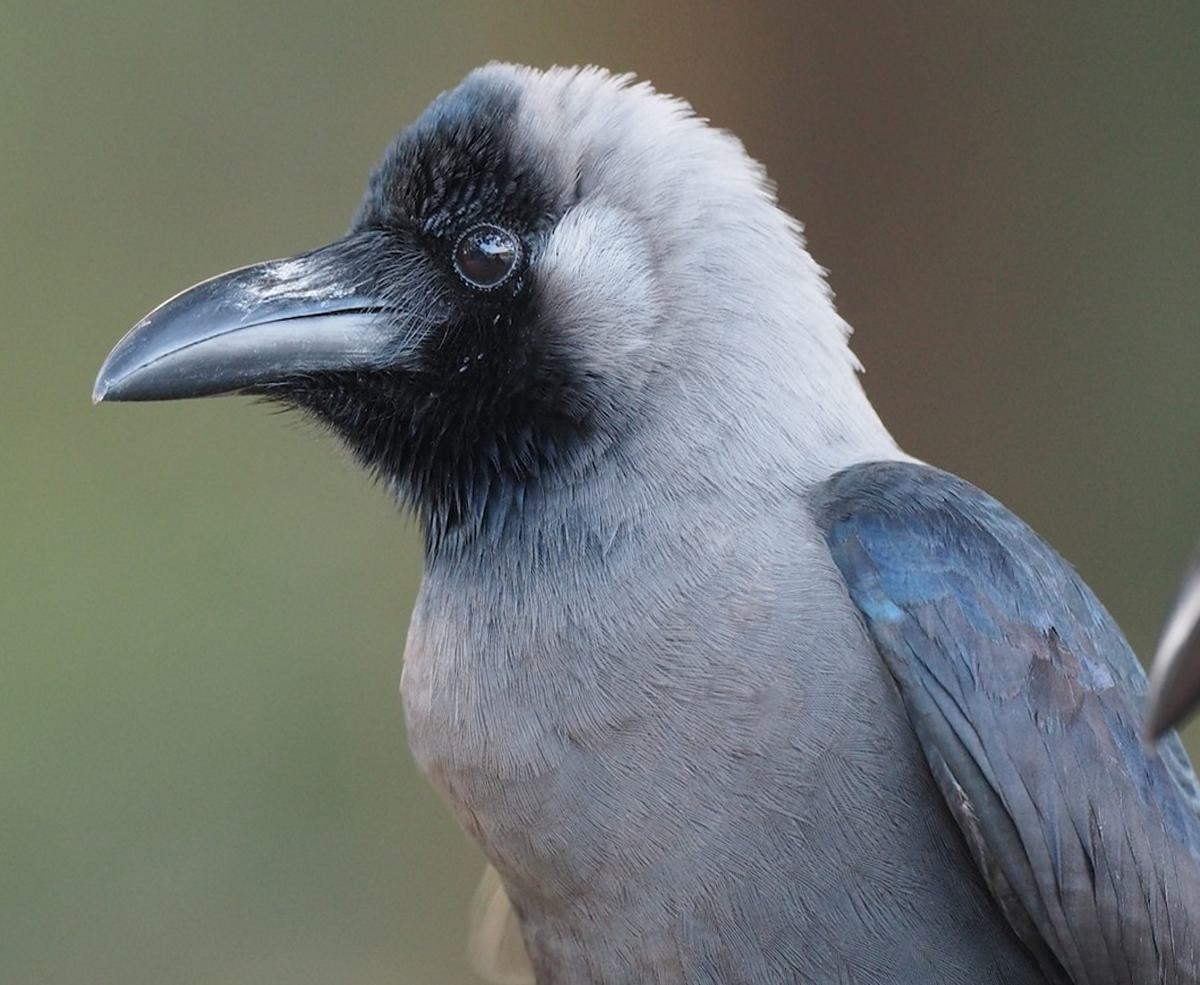crow: (92, 56, 1200, 985)
